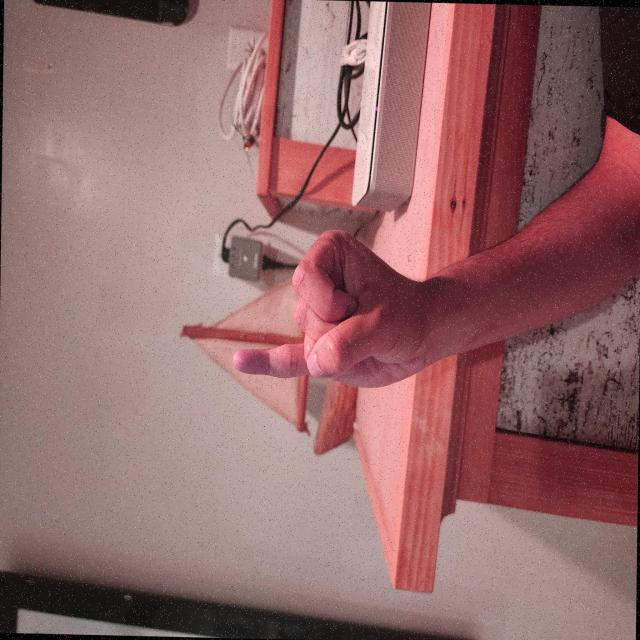I: (184, 303, 311, 582)
